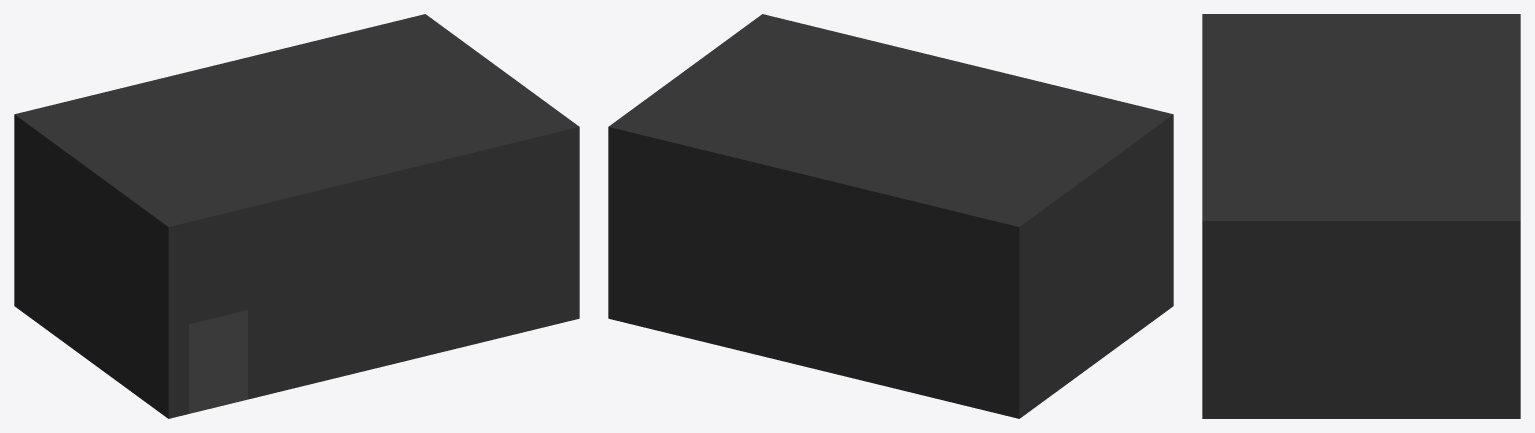
The model's file is GeoThermal_Inside.fbx.
The picture shows the model from 3 angles, left to right: view 1: azimuth 30°, elevation 25°; view 2: azimuth 150°, elevation 25°; view 3: azimuth 270°, elevation 25°; orthographic projection. The views are drawn at different scales.
Parts seen in each view (by area): view 1: Box249; view 2: Box249; view 3: Box249.
Part boxes in pixels (<box>): Box249: <box>14,14,579,418</box>; Box249: <box>608,14,1173,418</box>; Box249: <box>1202,14,1520,418</box>.
Bounding box in the file's own units: 299 × 134 × 194.
1 material, 1 textured.
